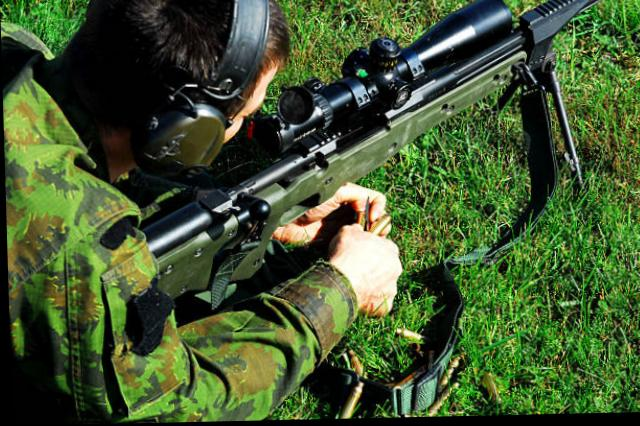other: (0, 0, 402, 414)
